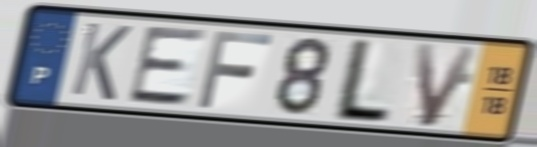8: (272, 34, 333, 118)
E: (123, 25, 212, 108)
F: (194, 28, 277, 111)
K: (66, 18, 136, 104)
L: (326, 36, 396, 127)
V: (412, 40, 483, 130)
